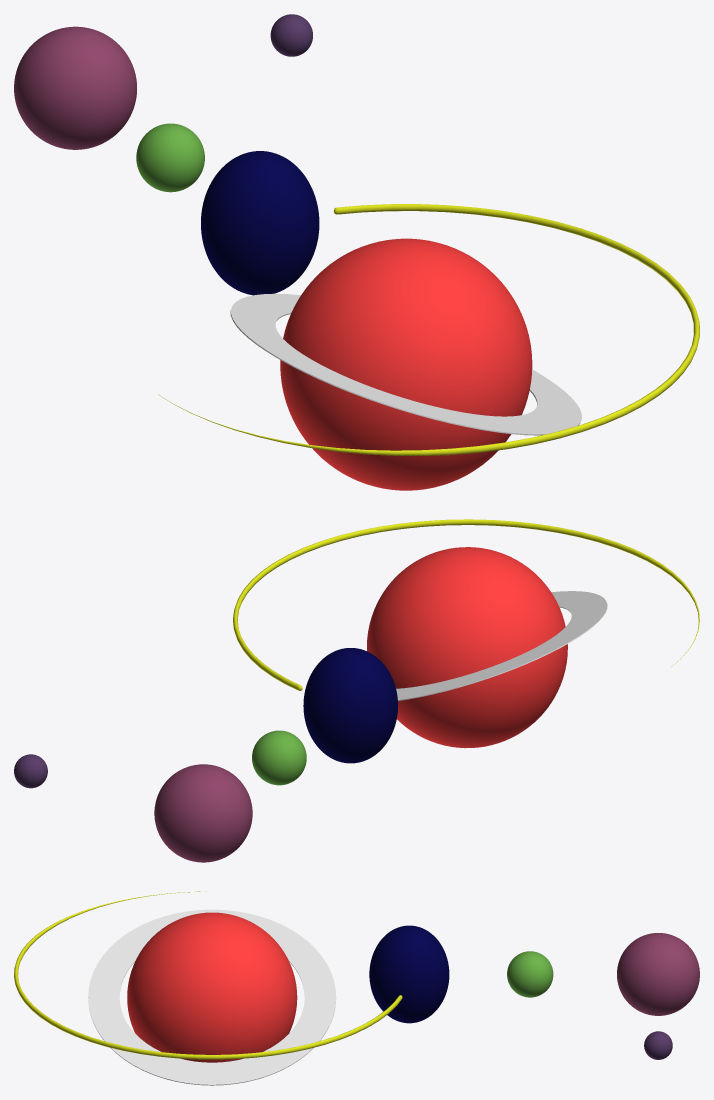
Rendered from planets_tutorial.fbx.
3 views of the same model, one above another, from view 1: azimuth 30°, elevation 25°; view 2: azimuth 150°, elevation 25°; view 3: azimuth 270°, elevation 25° (orthographic). The views are drawn at different scales.
Parts seen in each view (by area): view 1: Icosphere, Icosphere.001, Icosphere.003, Circle, Circle.001, Icosphere.002, Icosphere.004; view 2: Icosphere, Icosphere.001, Icosphere.003, Circle.001, Circle, Icosphere.002, Icosphere.004; view 3: Icosphere, Circle, Icosphere.001, Icosphere.003, Circle.001, Icosphere.002, Icosphere.004.
Part boxes in pixels (box(x1,y1,x2,y2)): Icosphere: box(280, 238, 532, 490); Icosphere.001: box(201, 151, 319, 295); Icosphere.003: box(14, 26, 136, 149); Circle: box(230, 293, 581, 435); Circle.001: box(158, 204, 699, 455); Icosphere.002: box(136, 123, 204, 192); Icosphere.004: box(270, 14, 312, 56); Icosphere: box(367, 547, 567, 748); Icosphere.001: box(303, 648, 397, 763); Icosphere.003: box(154, 764, 252, 862); Circle.001: box(233, 519, 699, 690); Circle: box(396, 591, 607, 700); Icosphere.002: box(252, 730, 306, 785); Icosphere.004: box(14, 754, 47, 788); Icosphere: box(127, 912, 297, 1062); Circle: box(88, 909, 336, 1085); Icosphere.001: box(369, 925, 449, 1023); Icosphere.003: box(617, 933, 699, 1015); Circle.001: box(14, 891, 402, 1059); Icosphere.002: box(507, 951, 553, 997); Icosphere.004: box(644, 1031, 672, 1059).
Size of what is drawn, in the model's own units: 464 by 200 by 807.
